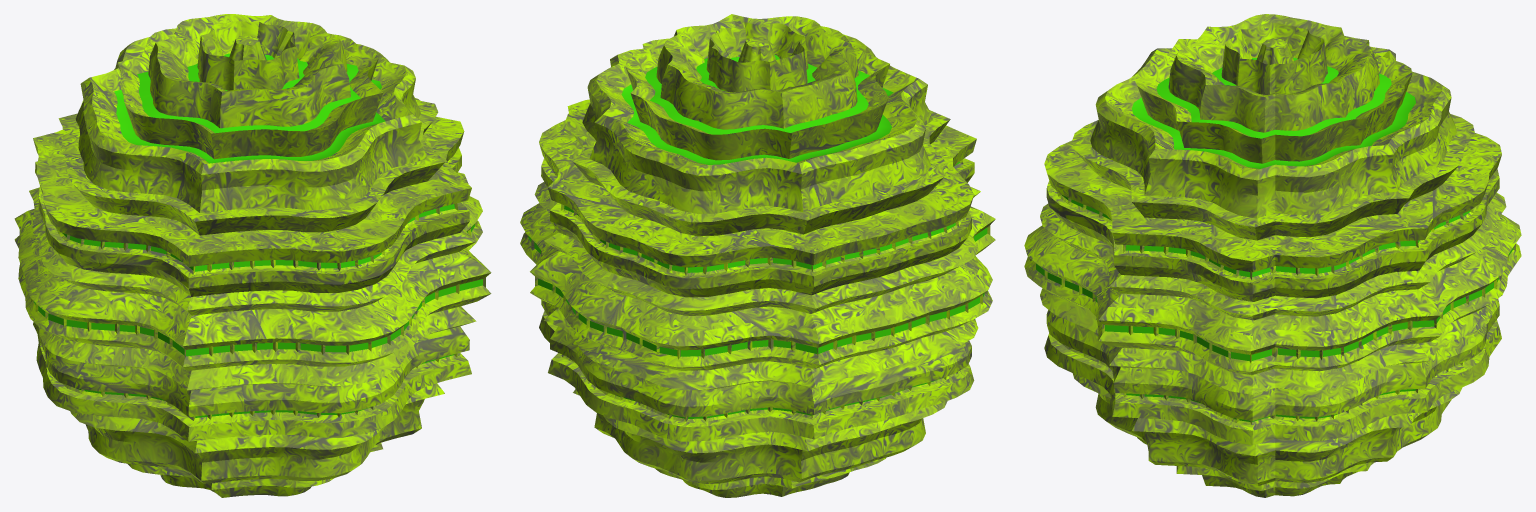
The model's file is AbstractGame.fbx.
The picture shows the model from 3 angles, left to right: view 1: azimuth 30°, elevation 25°; view 2: azimuth 150°, elevation 25°; view 3: azimuth 270°, elevation 25°; orthographic projection.
Visible parts, largest first — view 1: pSuperShape1; view 2: pSuperShape1; view 3: pSuperShape1.
Part boxes in pixels (box(x1,y1,x2,y2)): pSuperShape1: box(14, 14, 491, 497); pSuperShape1: box(520, 14, 995, 497); pSuperShape1: box(1024, 14, 1521, 497).
Bounding box in the file's own units: 2.25 × 2.13 × 2.23.
